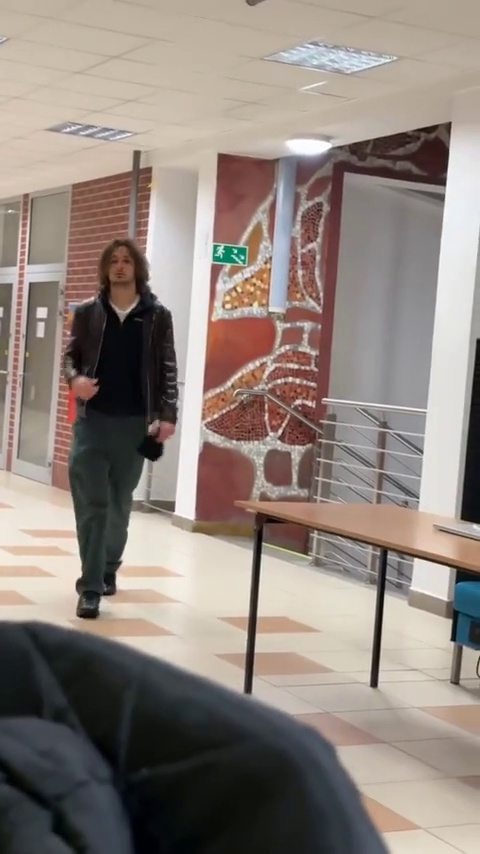no vest: (71, 237, 182, 612)
